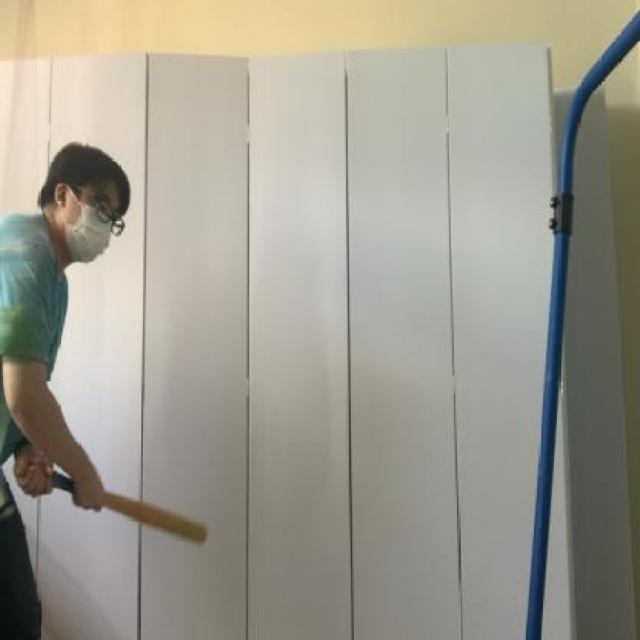baseball: (0, 296, 51, 378)
